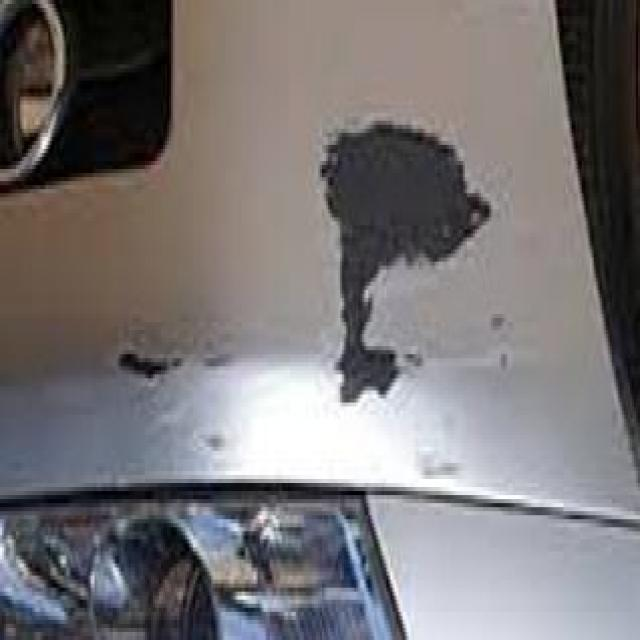scratch: (314, 108, 505, 426), (116, 318, 192, 407)
